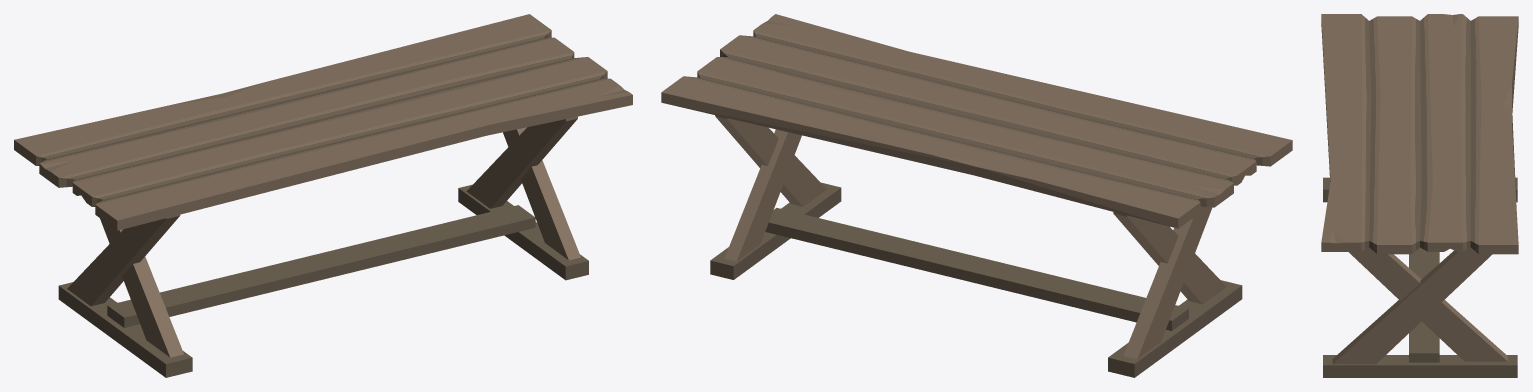
Rendered from SM_Prop_Table_03.fbx.
The picture shows the model from 3 angles, left to right: view 1: azimuth 30°, elevation 25°; view 2: azimuth 150°, elevation 25°; view 3: azimuth 270°, elevation 25°; orthographic projection. The views are drawn at different scales.
Parts seen in each view (by area): view 1: SM_Prop_Table_03; view 2: SM_Prop_Table_03; view 3: SM_Prop_Table_03.
Part boxes in pixels (left/top/right/bottom): SM_Prop_Table_03: left=14, top=14, right=632, bottom=377; SM_Prop_Table_03: left=661, top=14, right=1292, bottom=377; SM_Prop_Table_03: left=1321, top=14, right=1518, bottom=377.
Size of the model in its own units: 248 by 77.44 by 89.7.
